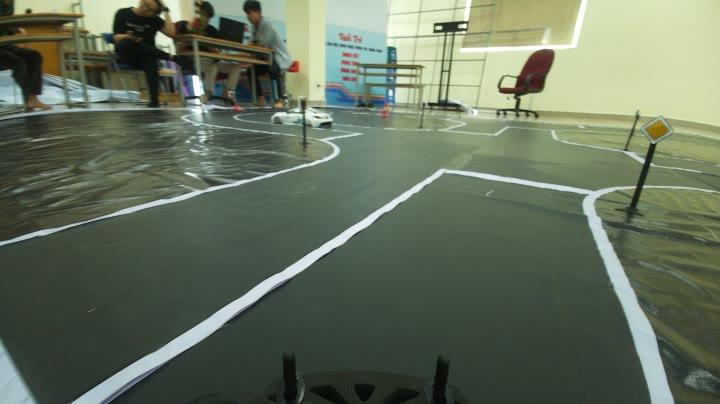priority: (638, 110, 678, 148)
